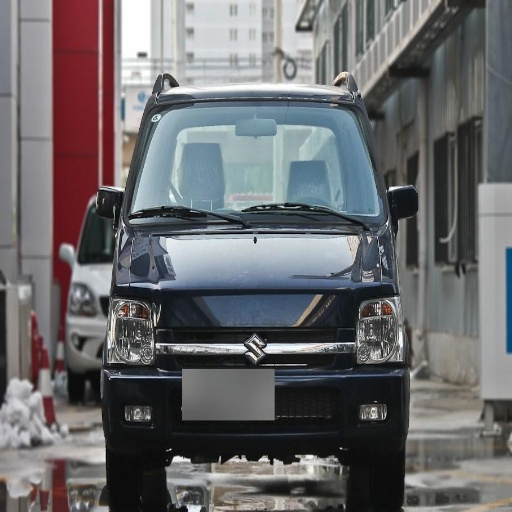front_bumper: (101, 291, 405, 460)
front_right_light: (107, 297, 155, 363)
hood: (111, 217, 385, 299)
